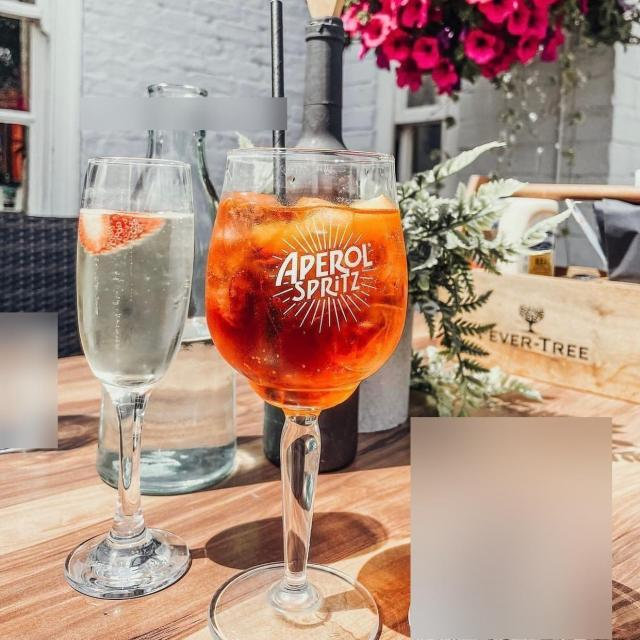glass-wine: (196, 137, 410, 640), (64, 149, 200, 601)
